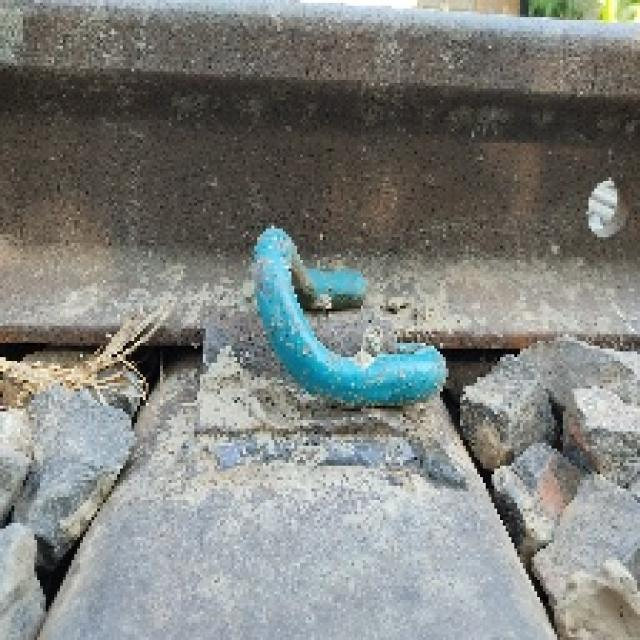Good Fasteners: (200, 226, 446, 431)
